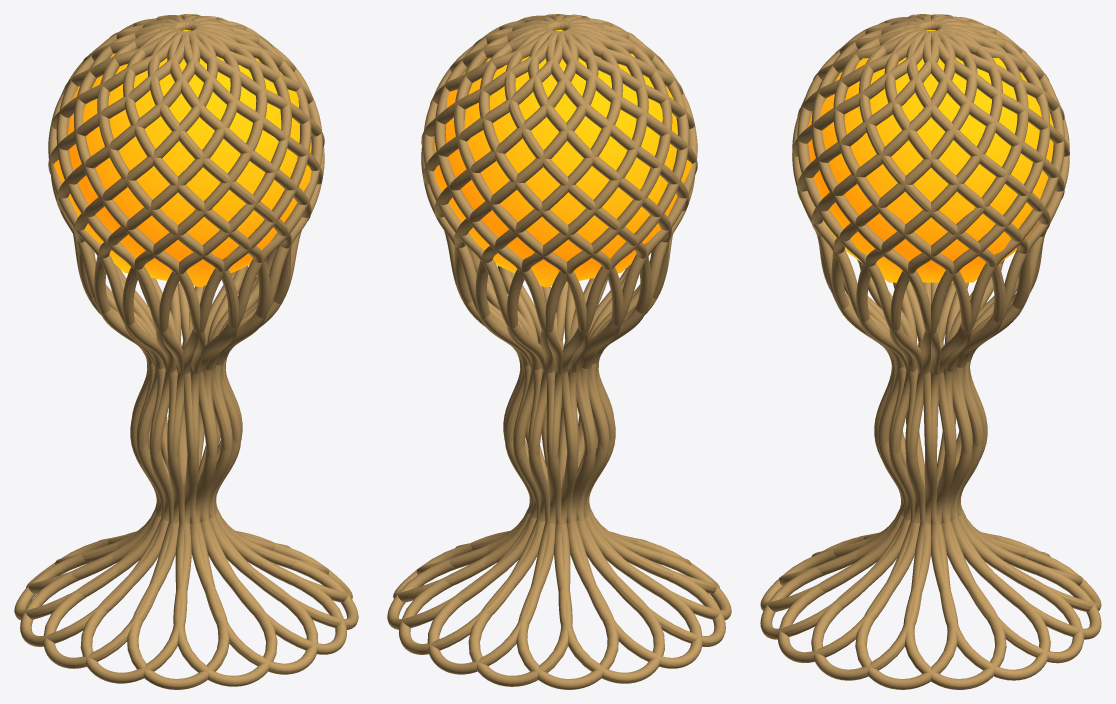
The model's file is mushroom bulb.fbx.
3 views of the same model, side by side, from view 1: azimuth 30°, elevation 25°; view 2: azimuth 150°, elevation 25°; view 3: azimuth 270°, elevation 25° (orthographic).
Parts seen in each view (by area): view 1: Celtic.001; view 2: Celtic.001; view 3: Celtic.001.
Boxes of the visible parts, x1=… form: Celtic.001: x1=14, y1=14, x2=358, y2=689; Celtic.001: x1=387, y1=14, x2=731, y2=689; Celtic.001: x1=760, y1=14, x2=1101, y2=689.
Bounding box in the file's own units: 251 × 483 × 251.
